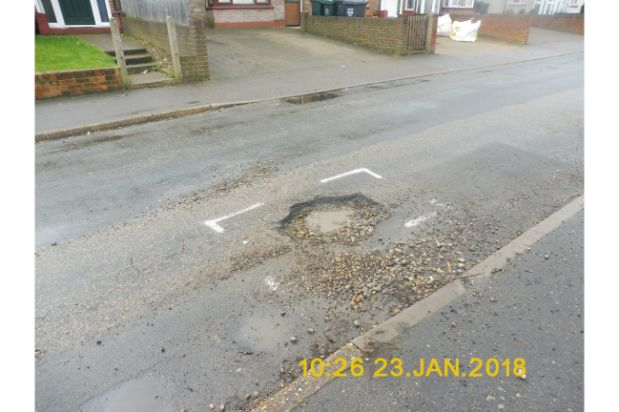pothole: (270, 191, 392, 251)
